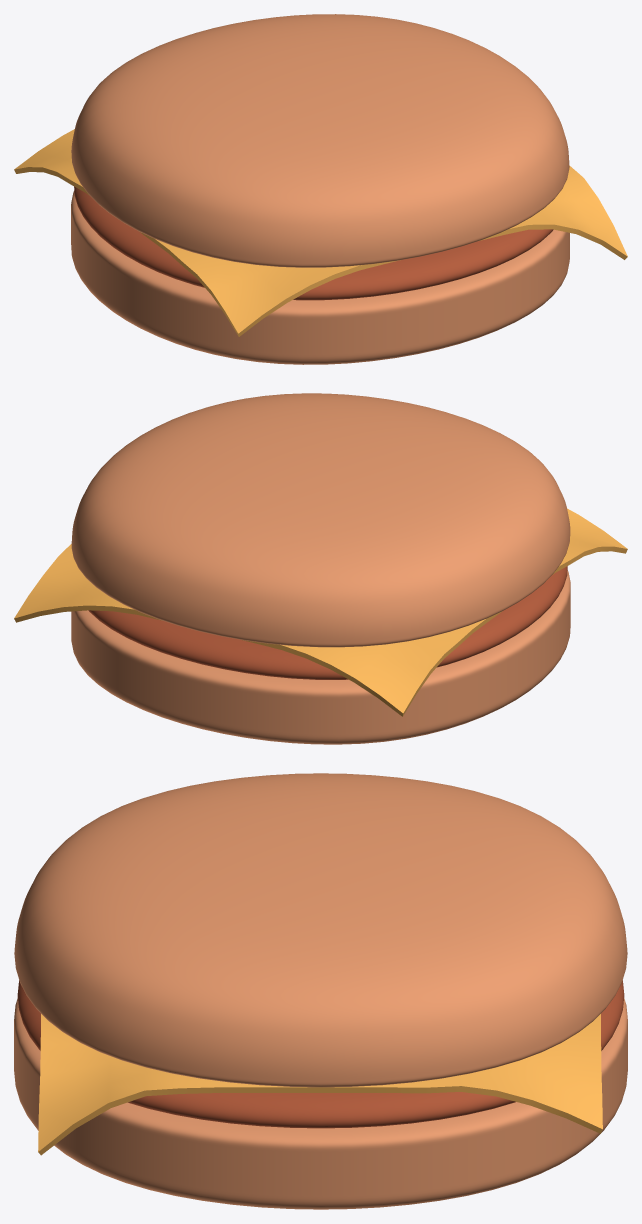
Rendered from hamburger.glb.
The picture shows the model from 3 angles, top to bottom: view 1: azimuth 30°, elevation 25°; view 2: azimuth 150°, elevation 25°; view 3: azimuth 270°, elevation 25°; orthographic projection. The views are drawn at different scales.
Parts seen in each view (by area): view 1: Cube.002, Cube, Plane, Cube.001; view 2: Cube.002, Cube, Plane, Cube.001; view 3: Cube.002, Cube, Plane, Cube.001.
Part boxes in pixels (x1,y1,x2,y2): Cube.002: [71, 14, 569, 267]; Cube: [71, 191, 569, 364]; Plane: [14, 129, 627, 336]; Cube.001: [74, 186, 553, 300]; Cube.002: [71, 393, 570, 647]; Cube: [71, 570, 570, 744]; Plane: [14, 508, 627, 716]; Cube.001: [88, 566, 567, 679]; Cube.002: [14, 773, 627, 1087]; Cube: [14, 998, 627, 1209]; Plane: [38, 1014, 602, 1155]; Cube.001: [17, 980, 624, 1128].
Bounding box in the file's own units: 9.17 × 3.98 × 9.17.
